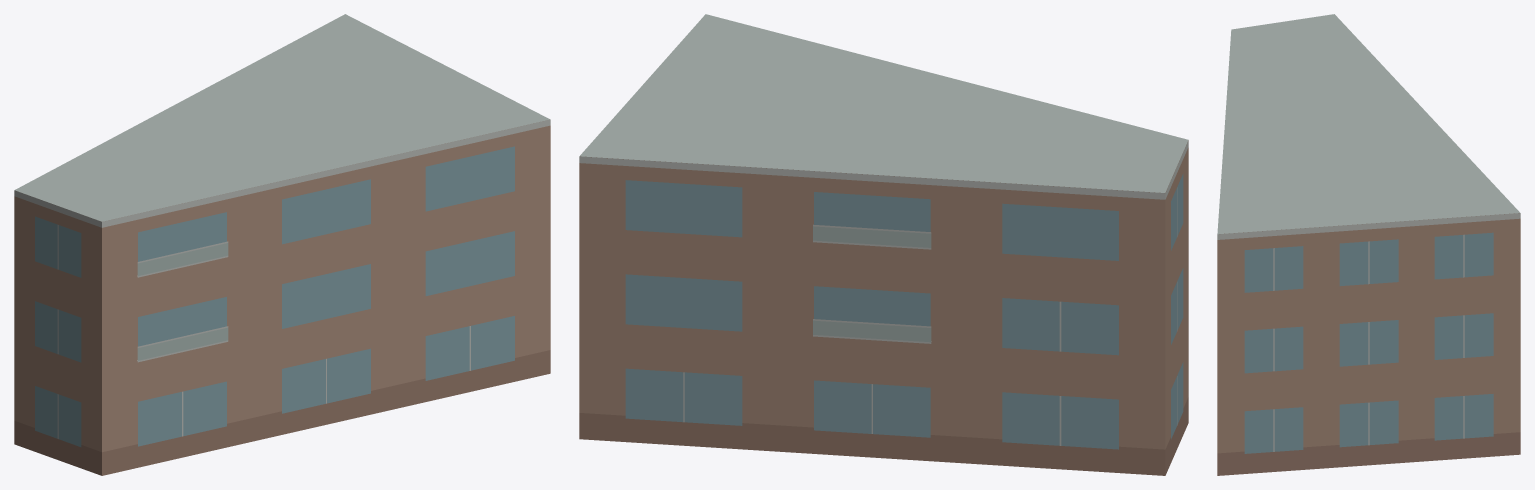
The model's file is survey-upis-32488053.glb.
3 renders of one model, left to right at view 1: azimuth 30°, elevation 25°; view 2: azimuth 150°, elevation 25°; view 3: azimuth 270°, elevation 25°, orthographic. The views are drawn at different scales.
Parts seen in each view (by area): view 1: survey-upis-32488053.tmp; view 2: survey-upis-32488053.tmp; view 3: survey-upis-32488053.tmp.
Part boxes in pixels (x1,y1,x2,y2): survey-upis-32488053.tmp: (14,14,550,475); survey-upis-32488053.tmp: (579,14,1188,475); survey-upis-32488053.tmp: (1217,14,1520,475).
Bounding box in the file's own units: 20.05 × 10.25 × 11.67.
